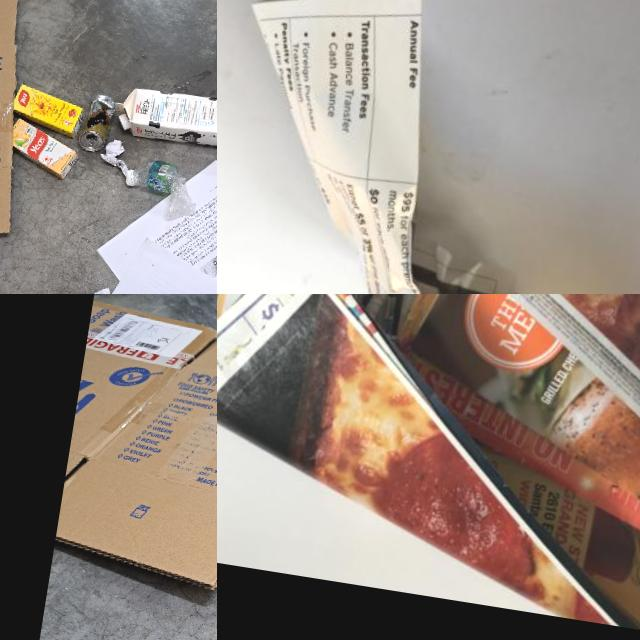aba de lata: (86, 138, 96, 148)
caixinha: (111, 81, 217, 150), (7, 117, 83, 181), (10, 82, 89, 140)
garrafa plástica: (120, 154, 202, 222), (94, 294, 144, 303)
lata: (77, 92, 116, 154)
papel: (217, 294, 640, 640), (217, 0, 636, 294), (69, 144, 217, 294), (98, 137, 133, 175)
papelão: (51, 302, 217, 609), (0, 0, 47, 259)
tampa plástica: (117, 112, 133, 132), (125, 169, 140, 187)
